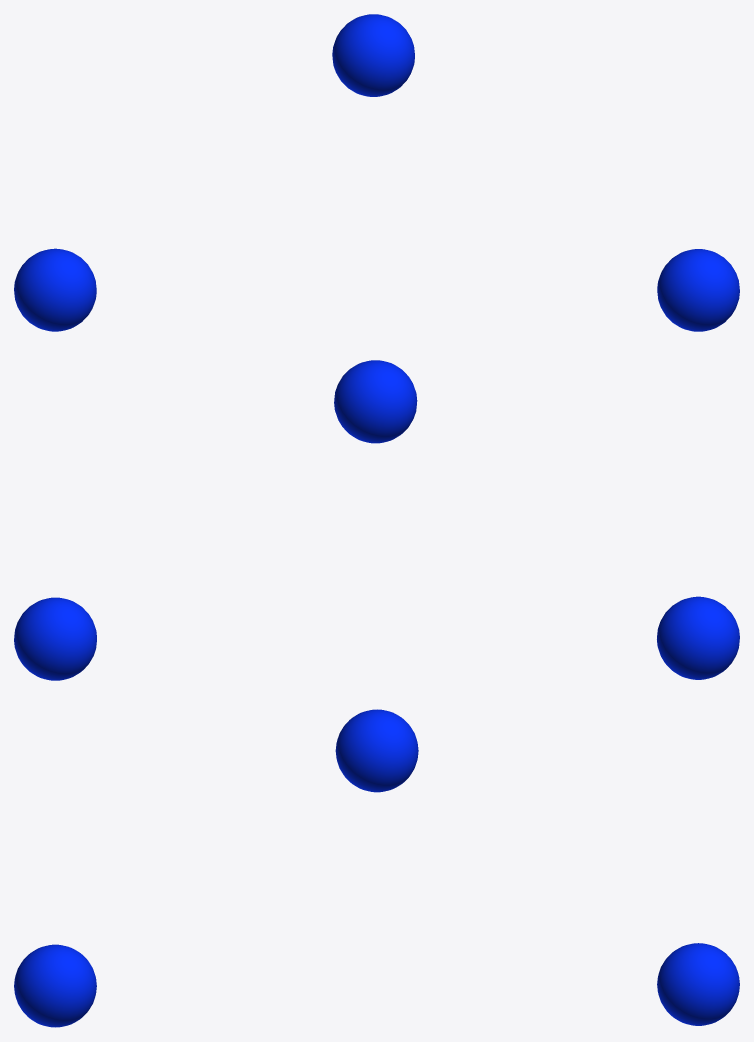
The picture shows the model from 3 angles, top to bottom: view 1: azimuth 30°, elevation 25°; view 2: azimuth 150°, elevation 25°; view 3: azimuth 270°, elevation 25°; orthographic projection.
Visible parts, largest first — view 1: Sphere046; view 2: Sphere046; view 3: Sphere046.
Boxes of the visible parts, bbox=[...] form: Sphere046: bbox=[14, 14, 739, 331]; Sphere046: bbox=[14, 360, 739, 680]; Sphere046: bbox=[14, 709, 739, 1027].
Size of the model in its own units: 63.36 by 8.22 by 71.95.
